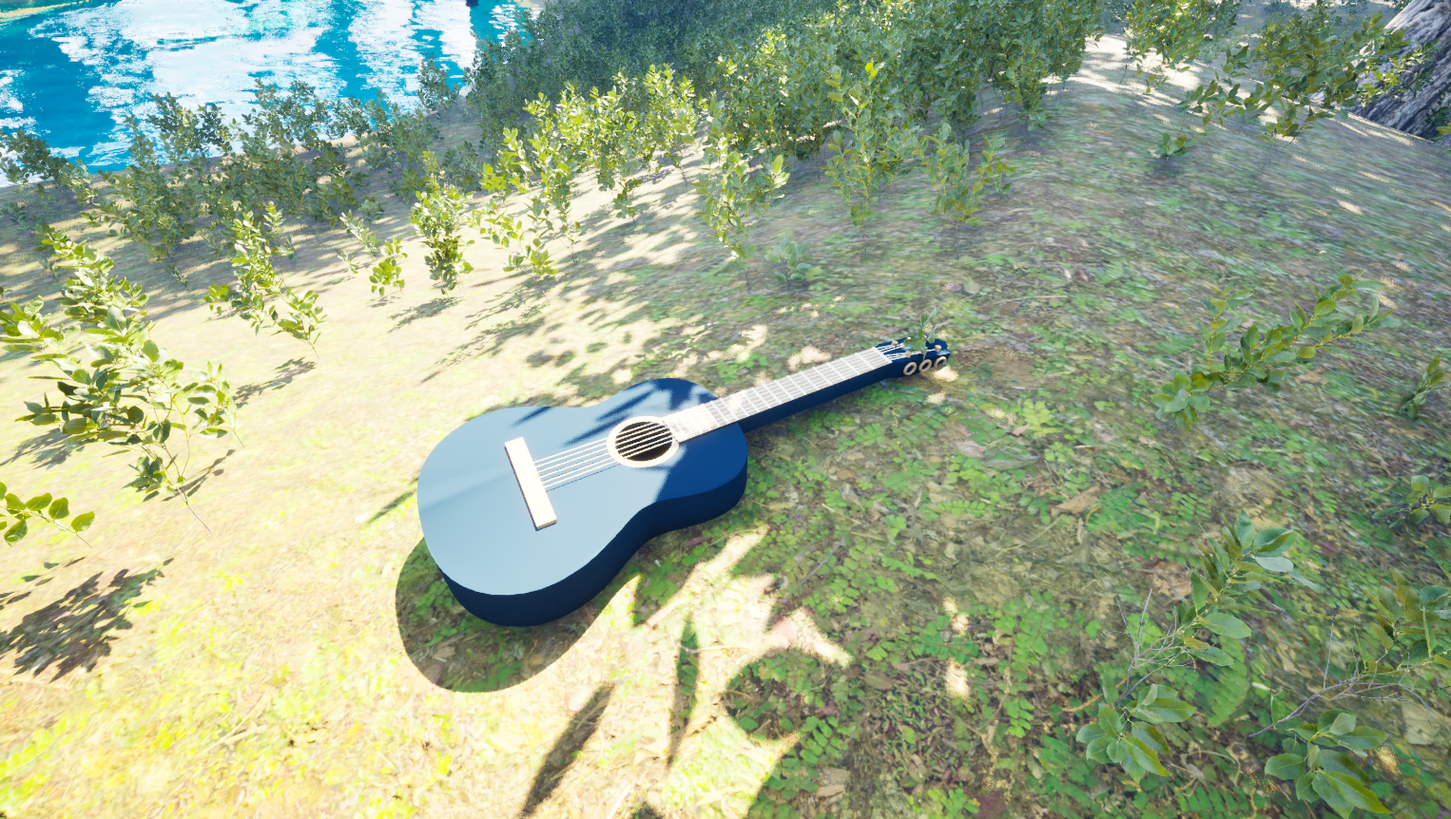Guitar: (401, 286, 1022, 663)
